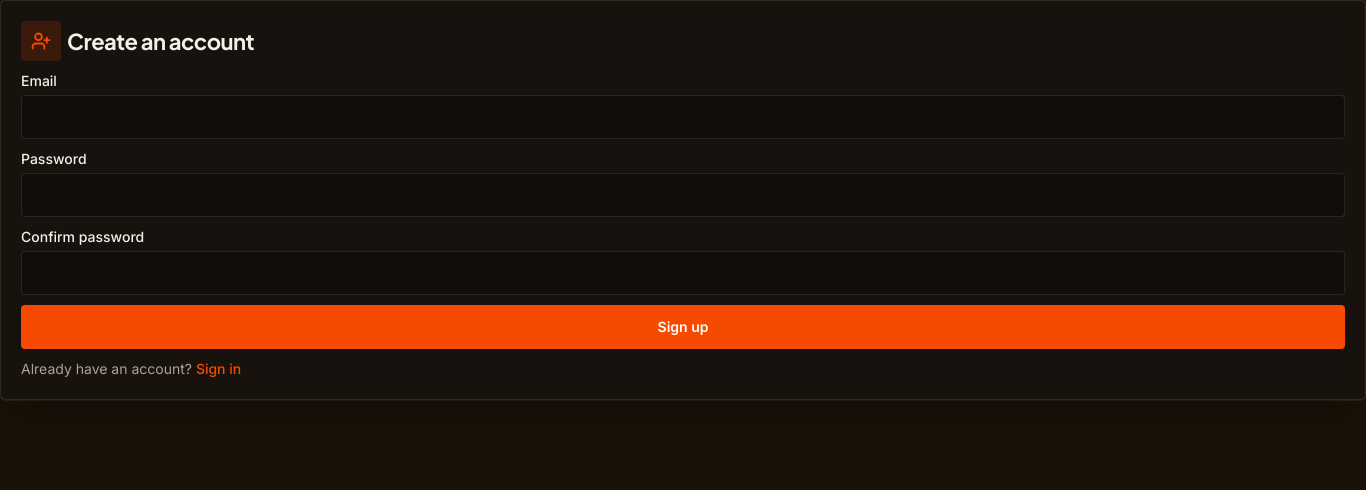
Test: SignUpForm › rejects a short password and a mismatched confirmation
Type "not-an-email" into the field labelled "Email" at (683, 117), box [21,95,1345,139]
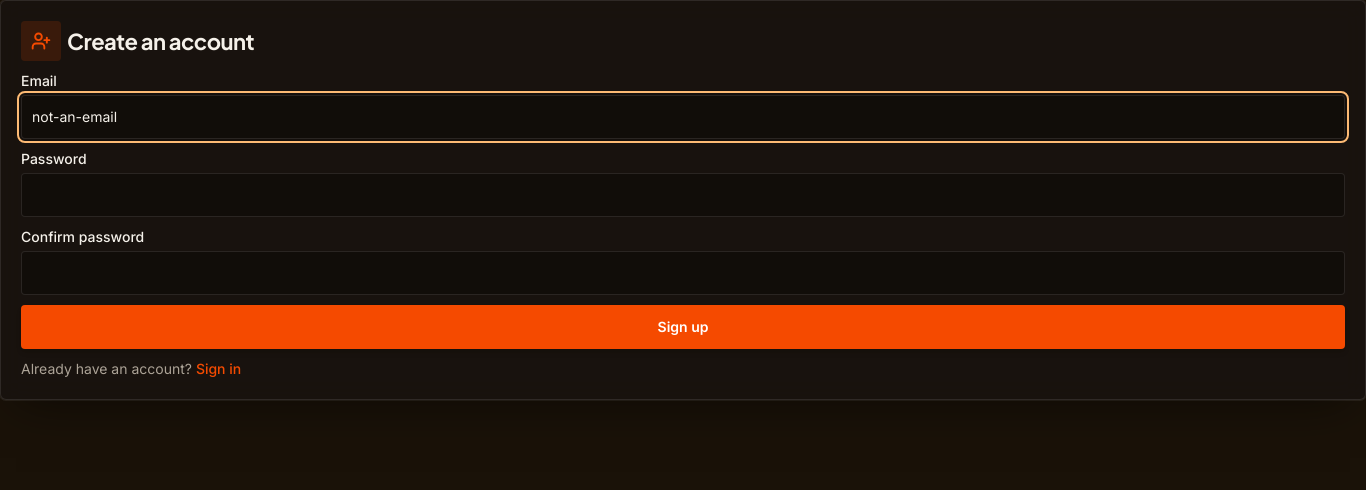
Type "short" into the password field labelled "Password" at (683, 195), box [21,173,1345,217]
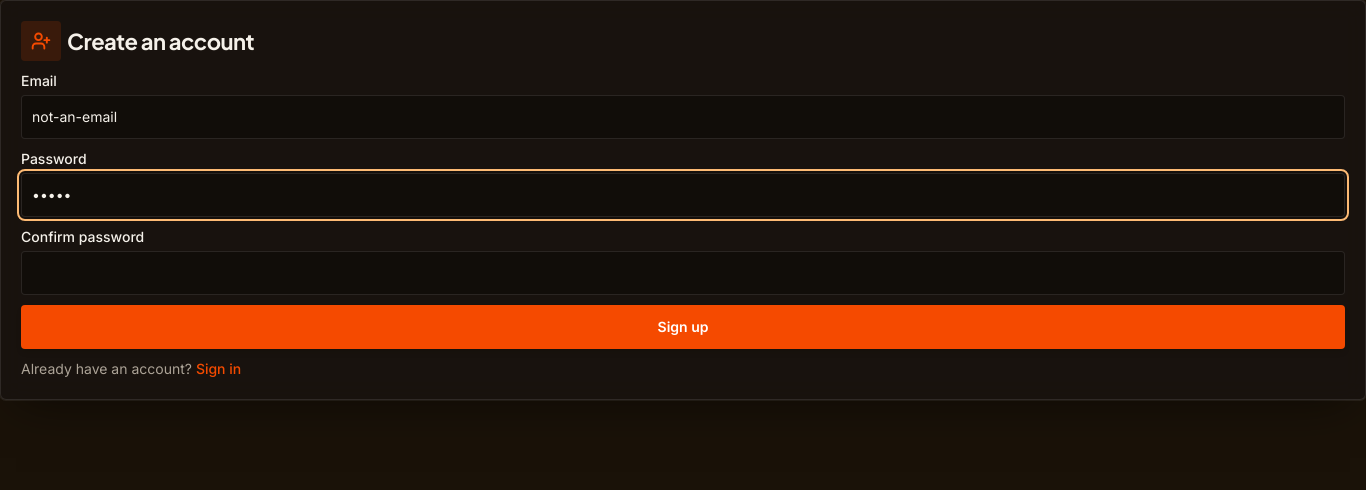
Type "other" into the password field labelled "Confirm password" at (683, 273), box [21,251,1345,295]
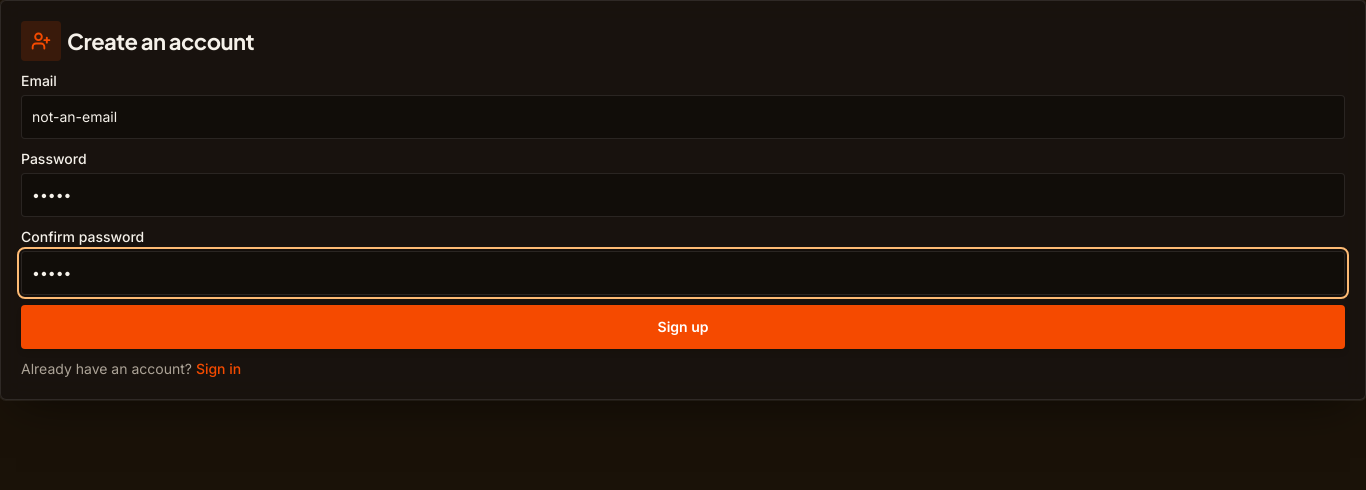
Click the button "Sign up" at (683, 327), box [21,305,1345,349]
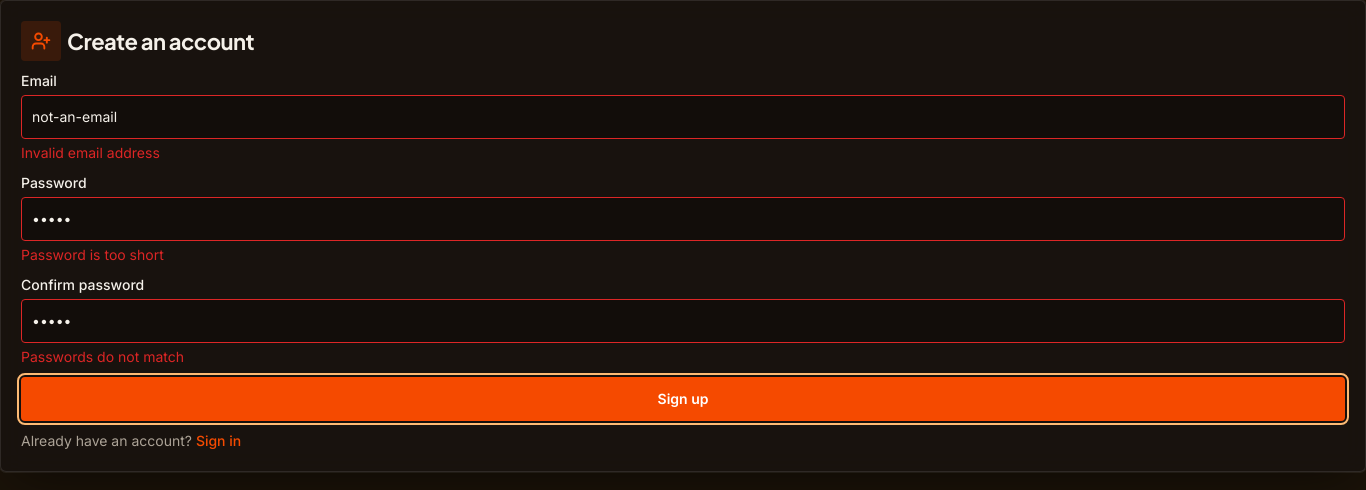
Now the text "Invalid email address" is shown, box [21,144,160,161]
Now the text "Password is too short" is shown, box [21,246,164,263]
Now the text "Passwords do not match" is shown, box [21,348,184,365]
